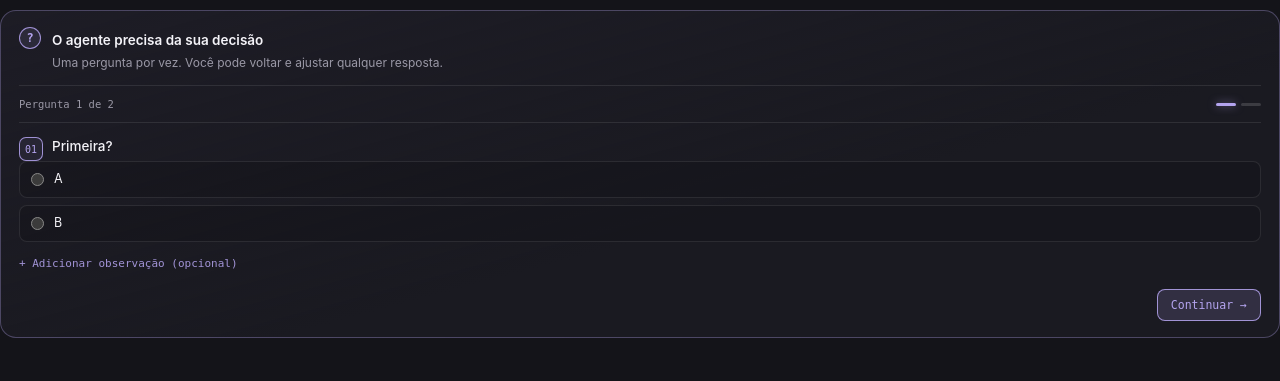
UserQuestionCard › allows editing an earlier answer before continuing
Click the radio button labelled "A" at (38, 180), box [31, 173, 44, 186]
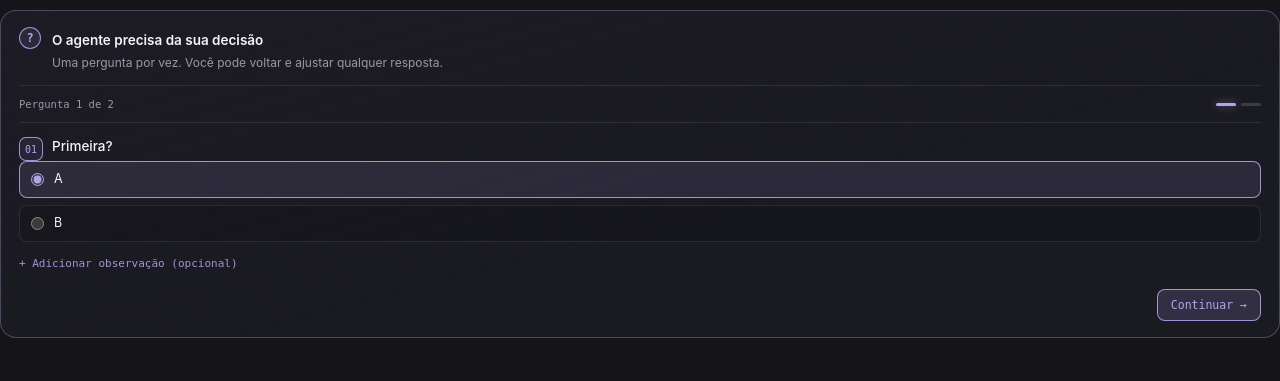
Click the button "Continuar →" at (1209, 305), box [1157, 289, 1261, 321]
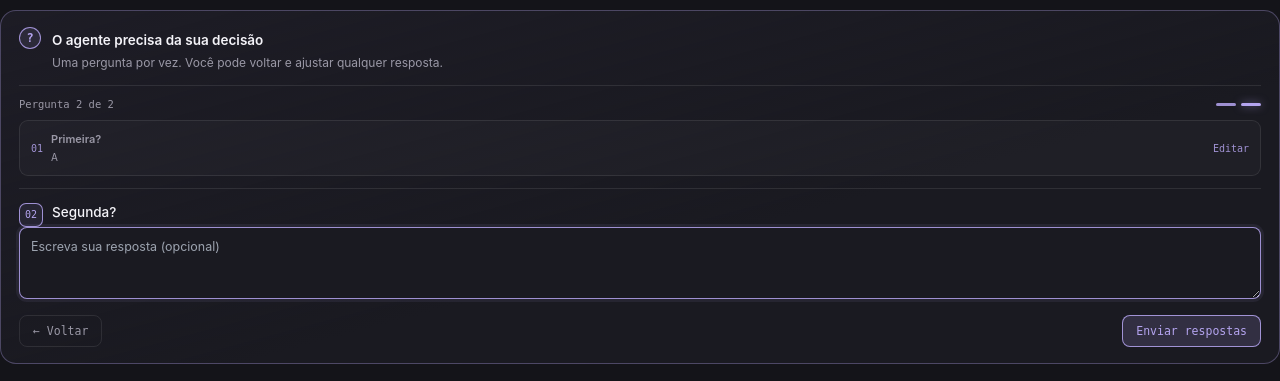
Click the button with aria-label "Editar resposta" at (1231, 148), box [1213, 143, 1249, 154]
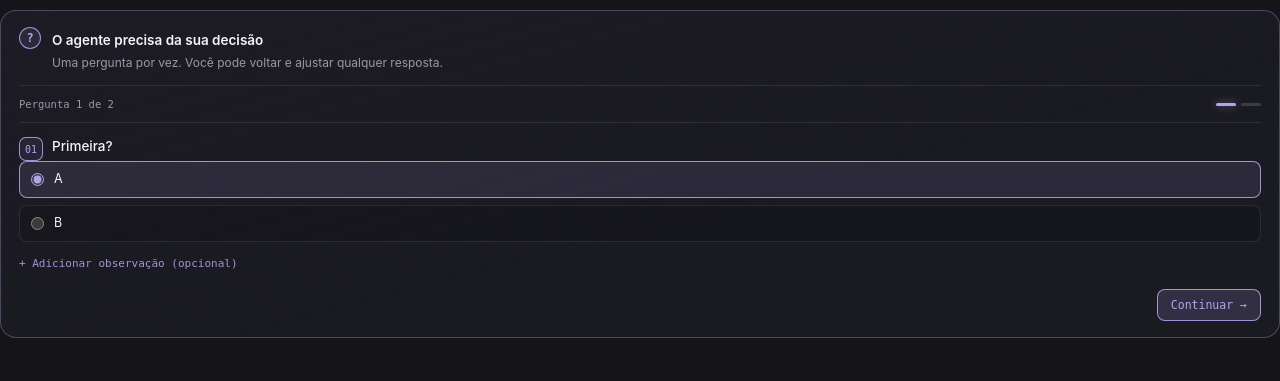
Expected: the radio button labelled "A" is checked, [31, 173, 44, 186]
Expected: the text "Segunda?" is gone
